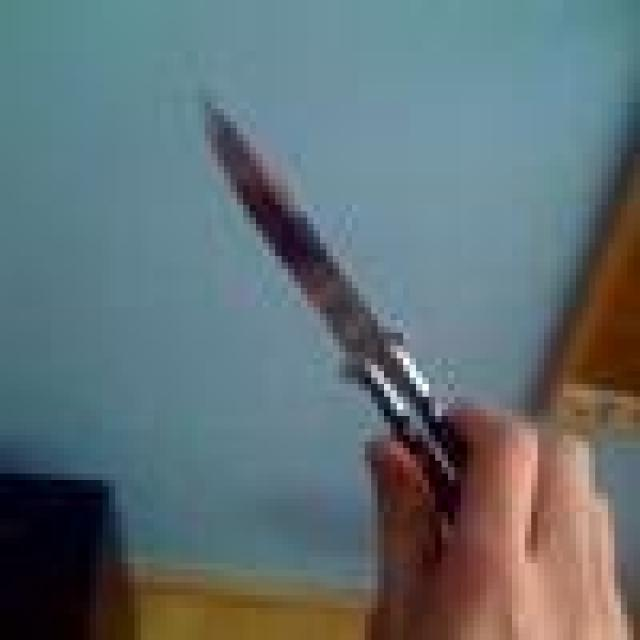weapon: (186, 90, 544, 576)
